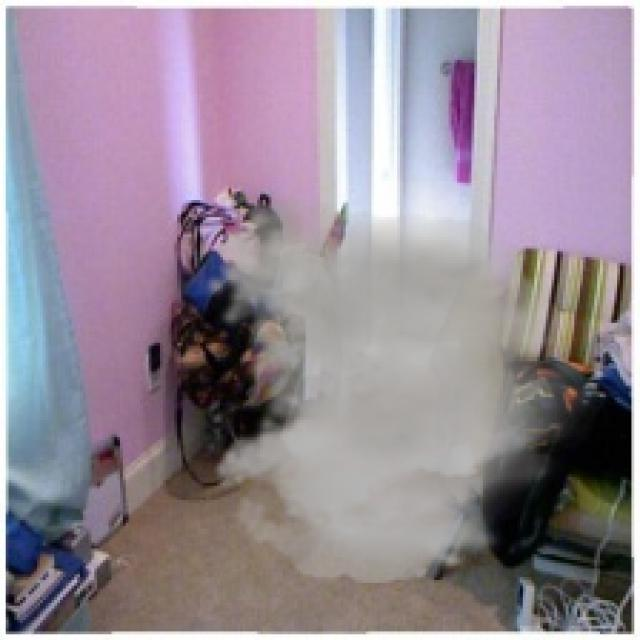Smoke: (202, 197, 608, 583)
